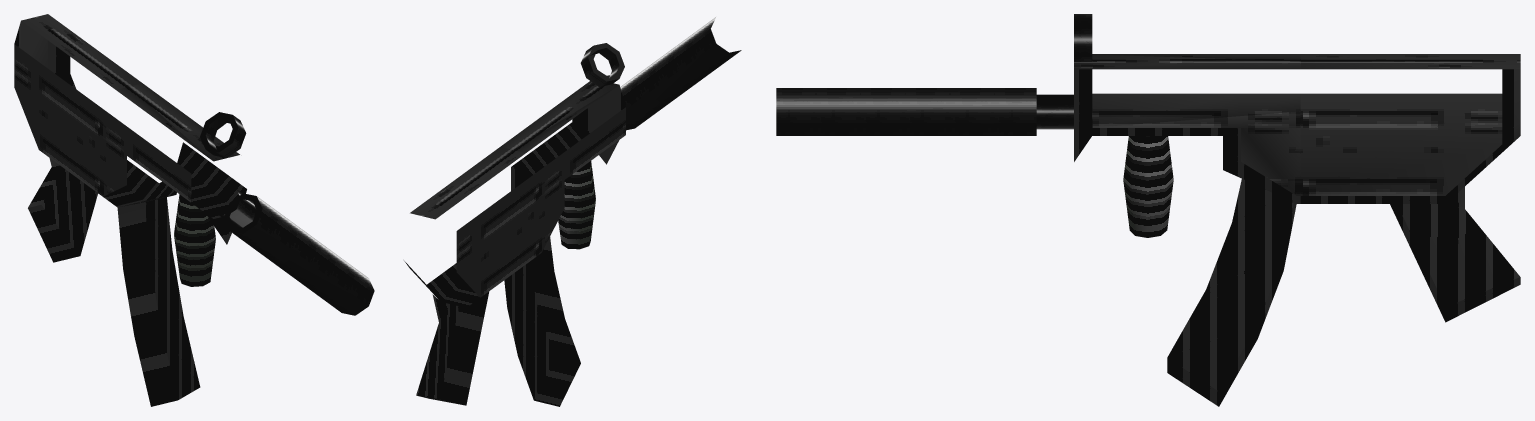
Rendered from gun.glb.
3 renders of one model, left to right at view 1: azimuth 30°, elevation 25°; view 2: azimuth 150°, elevation 25°; view 3: azimuth 270°, elevation 25°, orthographic. The views are drawn at different scales.
Parts seen in each view (by area): view 1: m5, m7, m4, m6, m8; view 2: m5, m7, m4, m6, m8; view 3: m5, m7, m4, m6, m8.
Boxes of the visible parts, x1,y1,x2,y2 form: m5: (14,21,262,406); m7: (14,44,191,202); m4: (205,115,374,315); m6: (21,14,239,161); m8: (174,194,215,286); m5: (404,43,625,406); m7: (456,107,625,297); m4: (580,17,741,130); m6: (410,81,618,219); m8: (558,161,595,249); m5: (1074,69,1520,406); m7: (1092,93,1502,195); m4: (776,14,1092,135); m6: (1074,54,1520,69); m8: (1123,136,1173,237).
Bounding box in the file's own units: 58 × 328 × 575.
5 materials, 5 textured.
